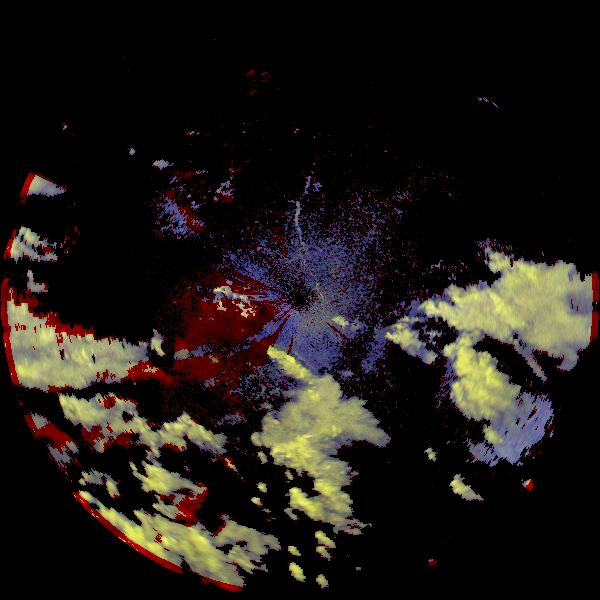roost: (139, 331, 199, 391)
